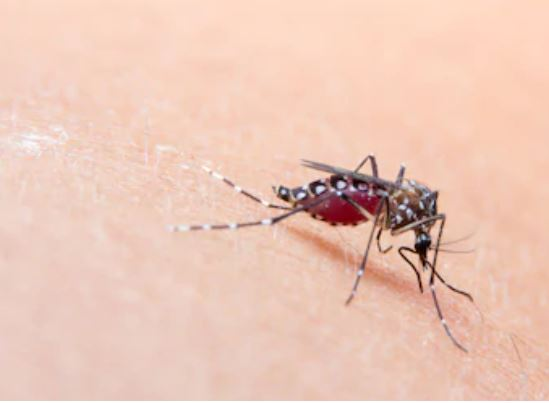dengue_mosquito: (191, 154, 477, 310)
